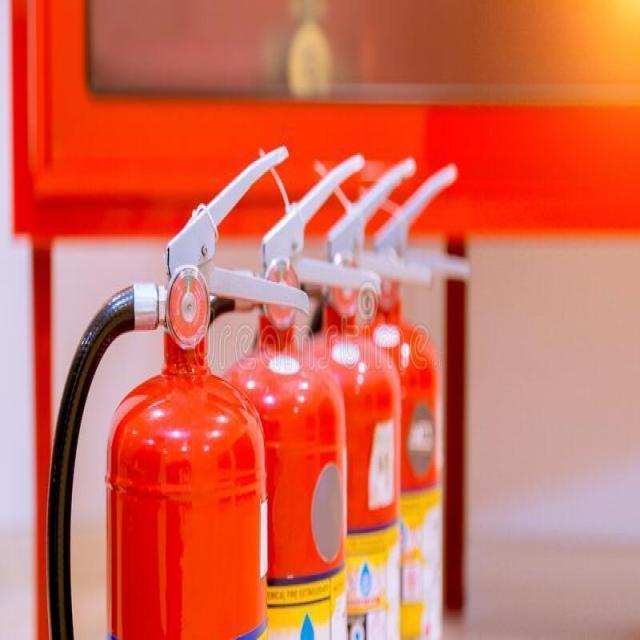fire_extinguisher: (37, 134, 310, 638), (170, 142, 384, 638)
